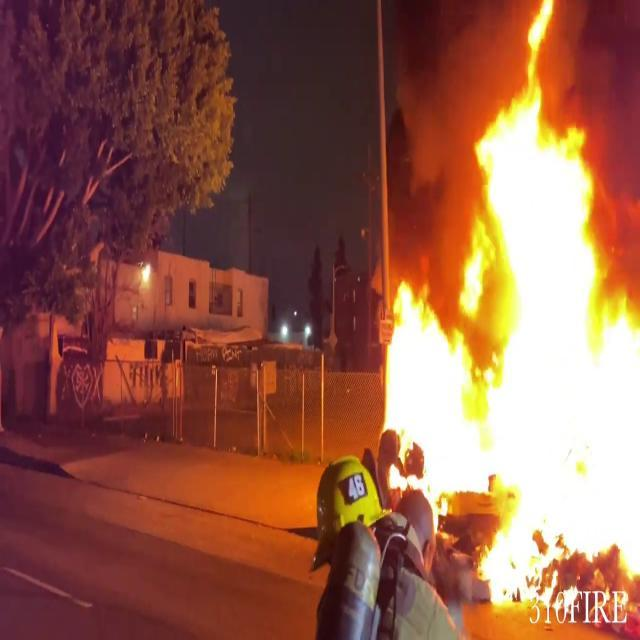Fire: (379, 2, 640, 608)
